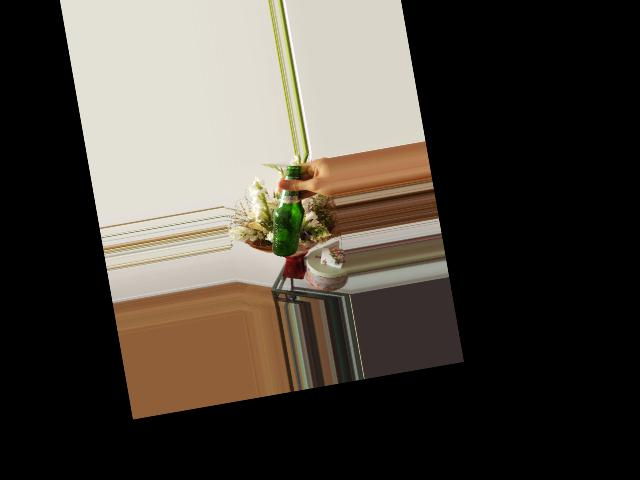beer: (258, 164, 312, 258)
